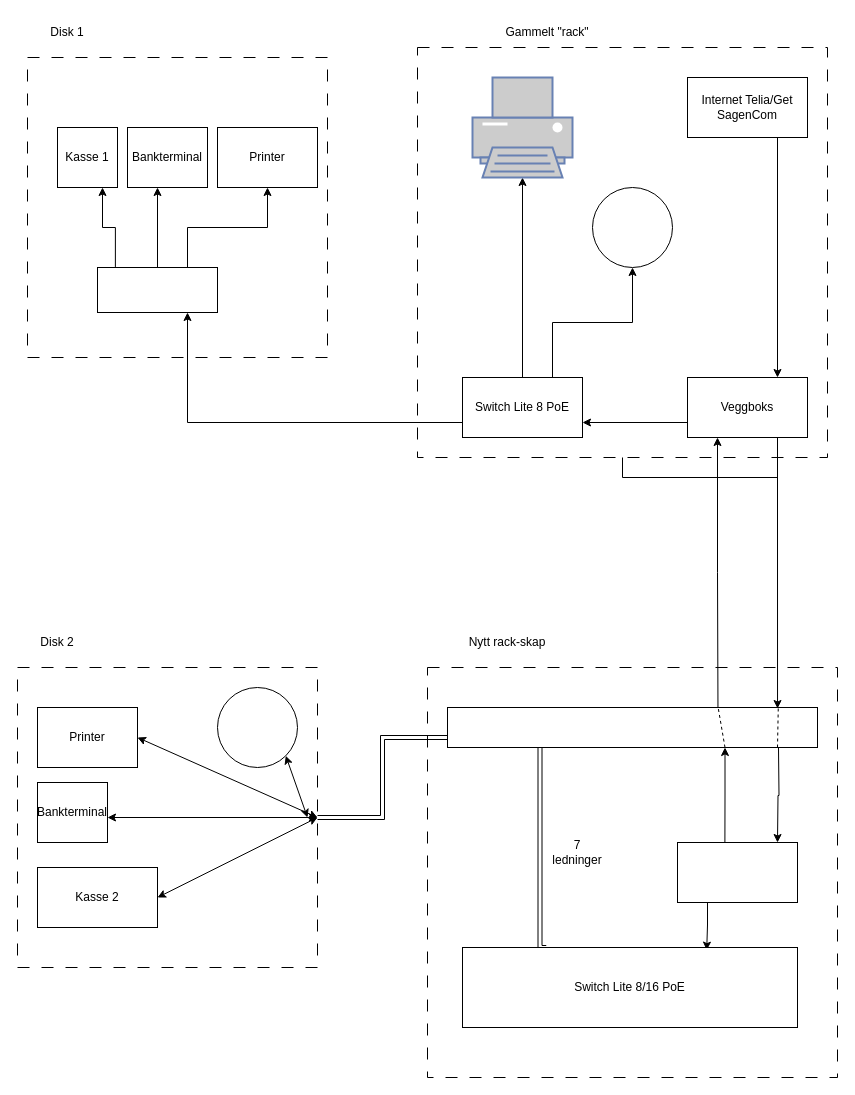
This 855x1095 diagram has some shape labels left out. The centre of each missing label's shape, as x and y in pixels:
"AP" belongs at point (632, 227).
"AP?" belongs at point (257, 727).
"Flex mini 5" belongs at point (157, 289).
"Patchpanel" belongs at point (632, 727).
"UDR" belongs at point (737, 872).
